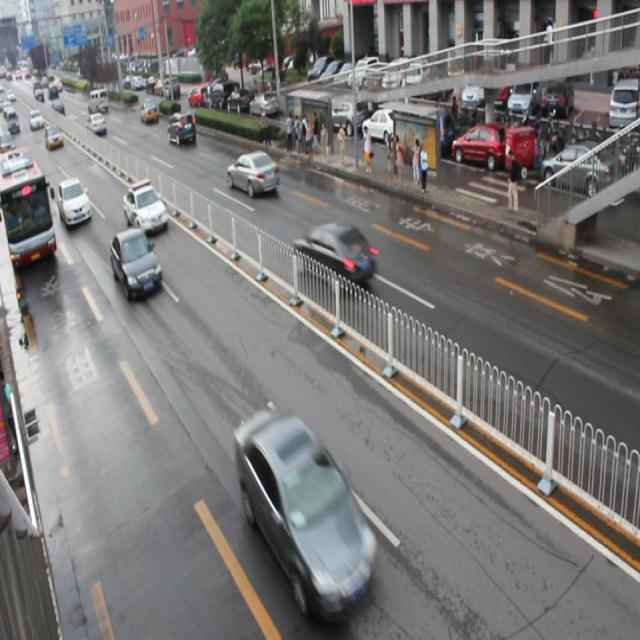car: (234, 408, 378, 620), (292, 222, 376, 292), (110, 226, 162, 299), (227, 150, 279, 198), (123, 182, 170, 232), (58, 176, 92, 226), (166, 111, 196, 146)
van: (1, 148, 56, 266)
